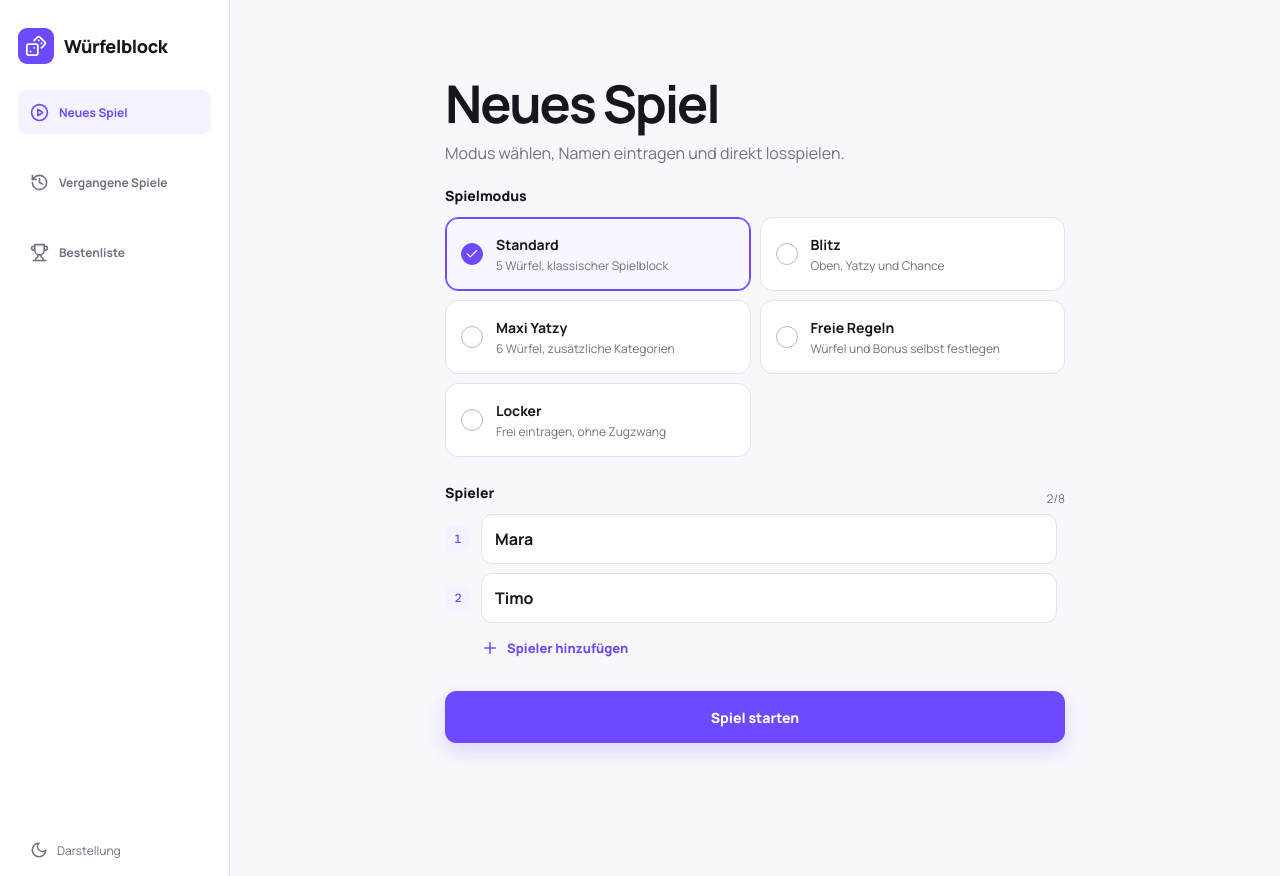
Scenario: complete gameplay › starts a standard game and advances after a score
Click the button "Spiel starten": x=755, y=717 x1=445 y1=691 x2=1065 y2=743
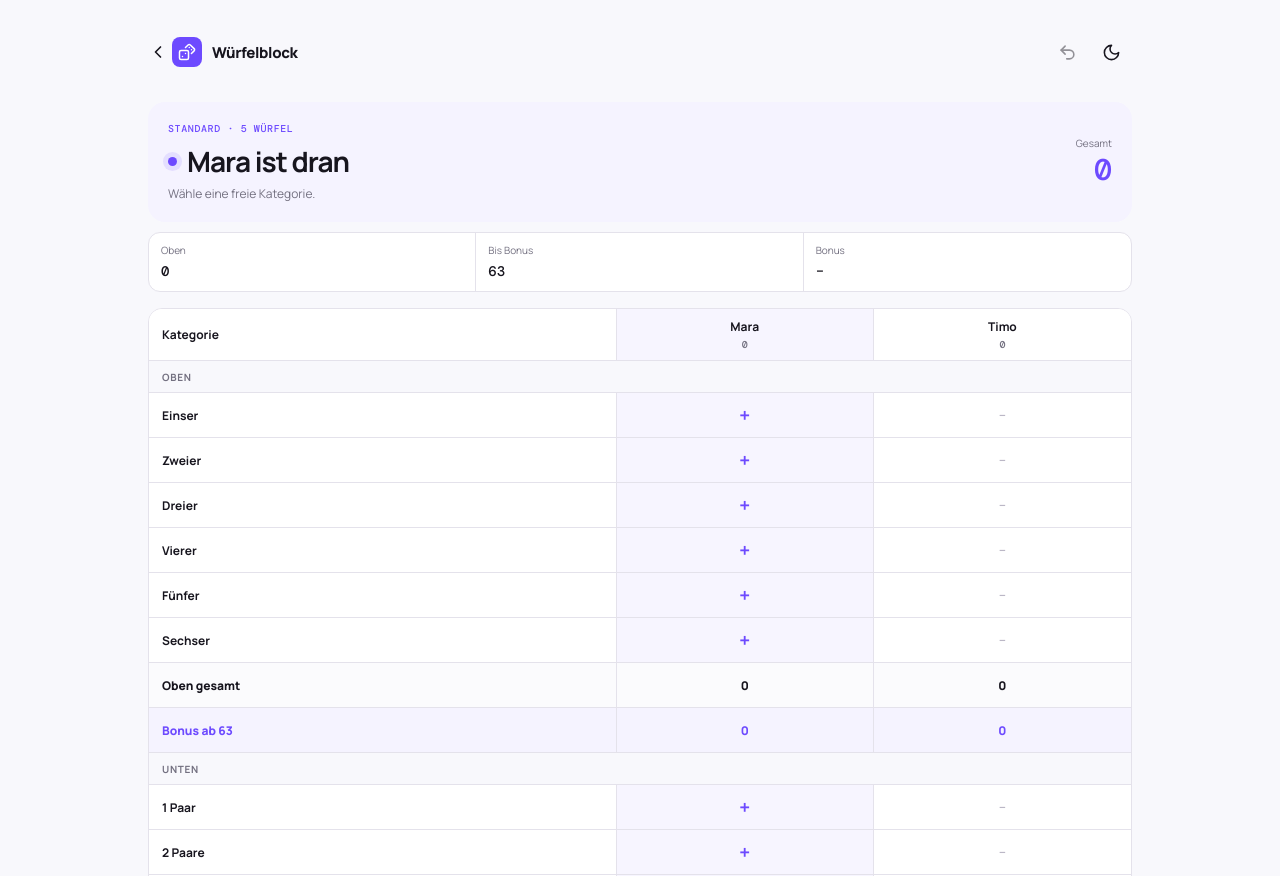
Click the button "+" in the row of "Einser": x=745, y=415 x1=617 y1=393 x2=873 y2=437
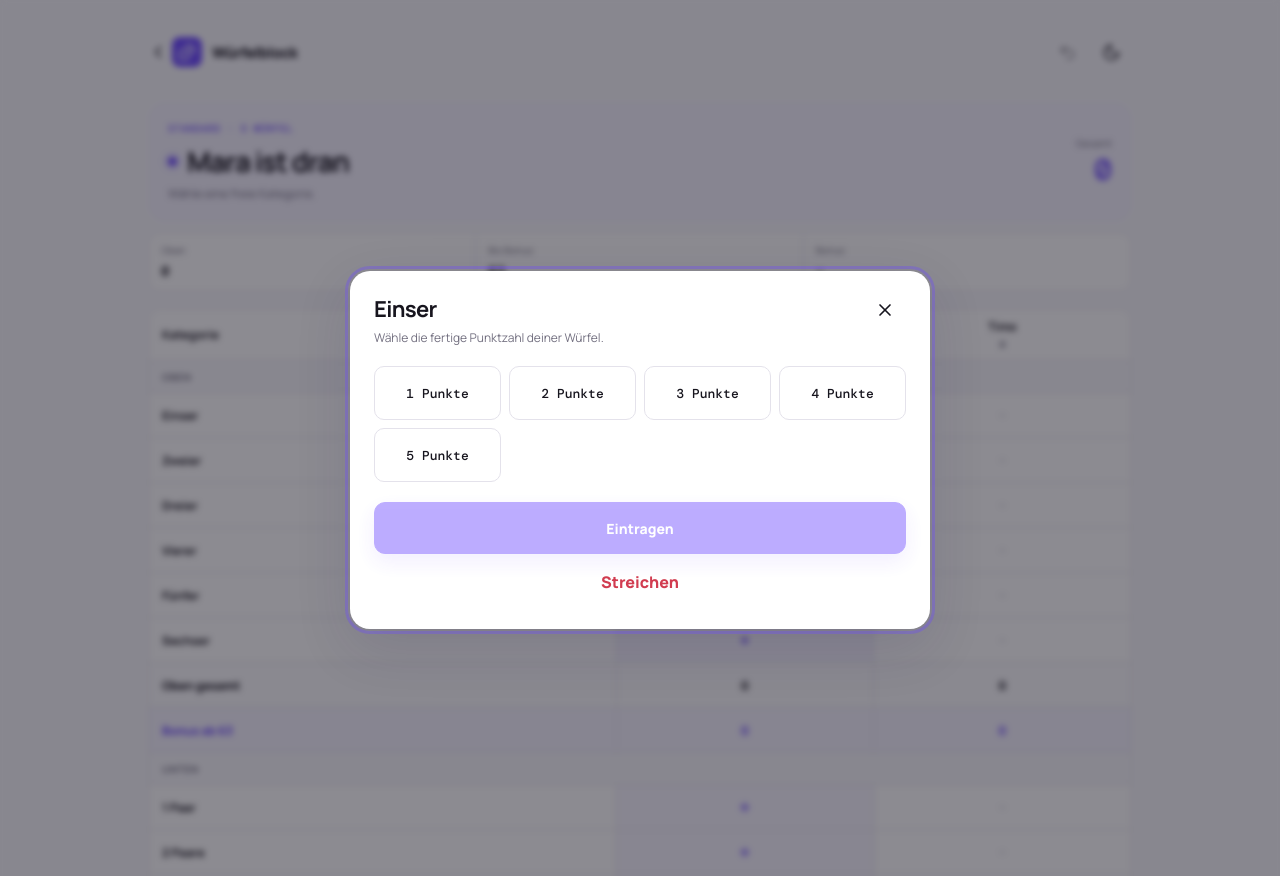
Click the button "3 Punkte": x=708, y=393 x1=644 y1=366 x2=771 y2=420
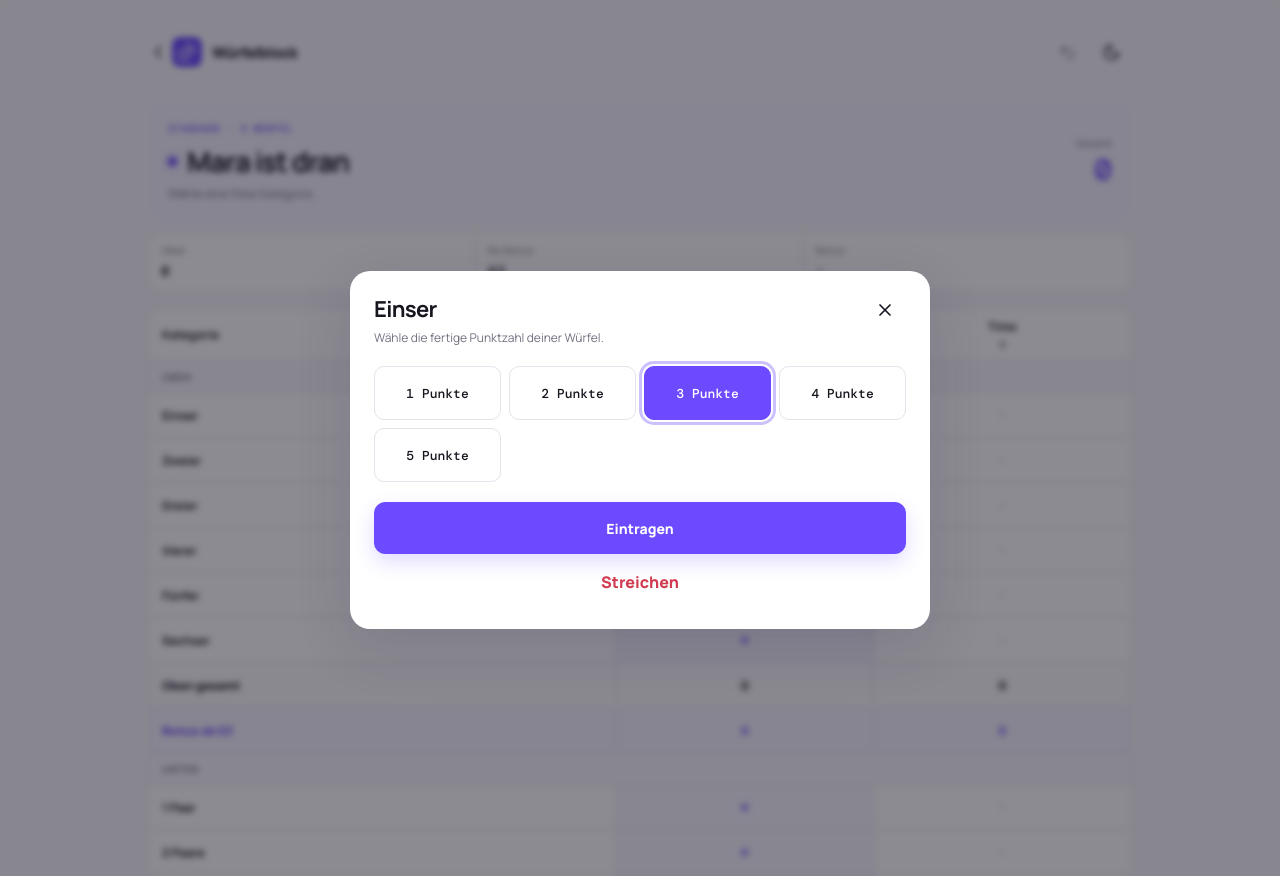
Click the button "Eintragen": x=640, y=528 x1=374 y1=502 x2=906 y2=554
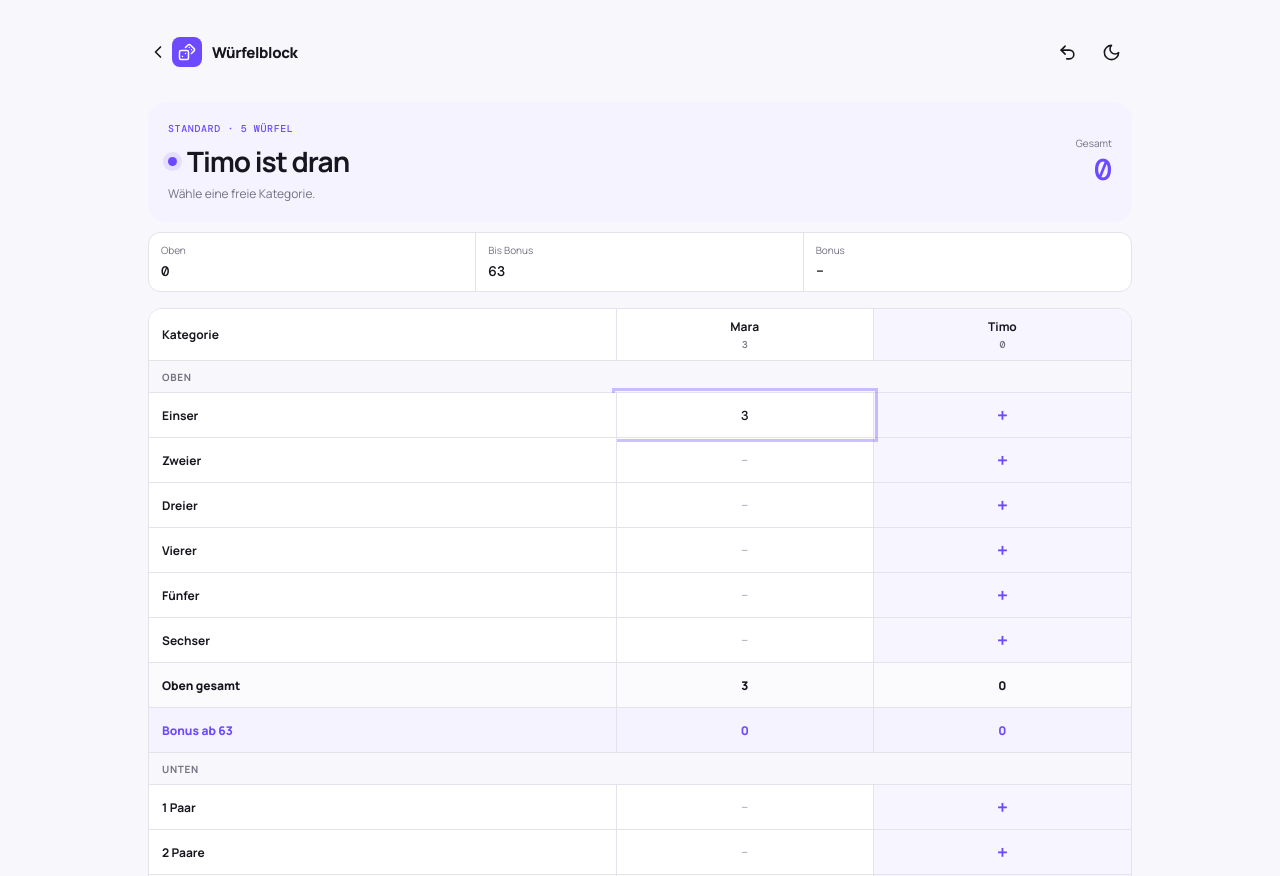
Now the heading "Timo ist dran" is shown, box x1=168 y1=142 x2=349 y2=180
Now the button "3" is shown, box x1=617 y1=393 x2=873 y2=437
